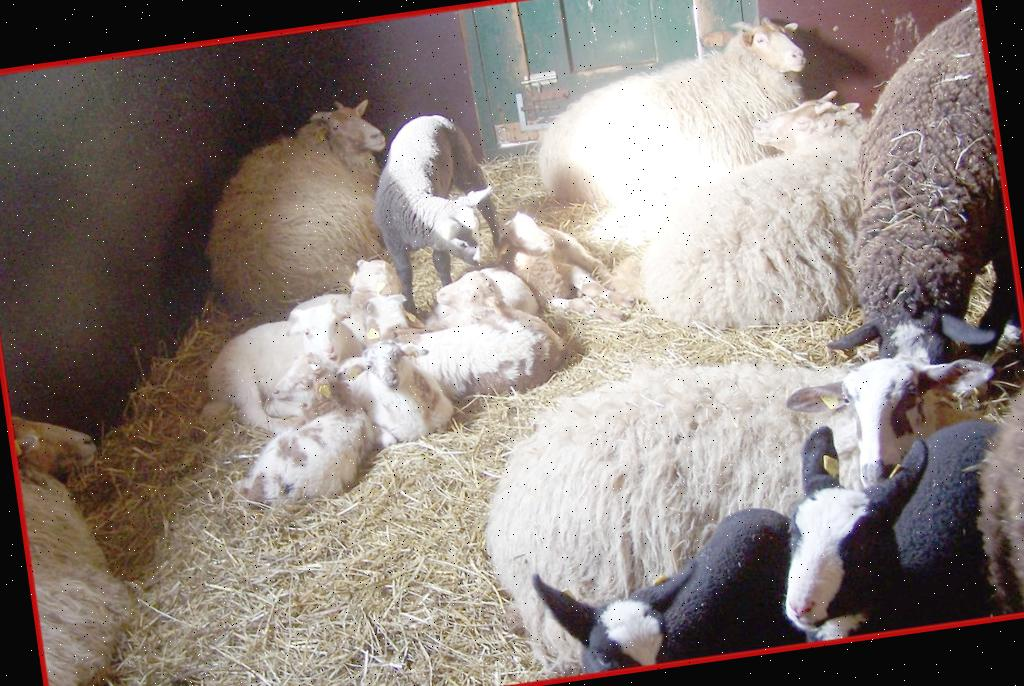Sheep: (480, 318, 942, 520), (798, 6, 1024, 382), (601, 90, 905, 346), (762, 416, 1018, 650), (0, 363, 181, 686), (512, 10, 826, 195), (176, 86, 404, 311), (522, 530, 780, 680), (360, 98, 510, 318), (232, 358, 368, 520), (196, 295, 370, 420), (431, 264, 575, 401), (350, 330, 474, 456), (490, 192, 600, 322)
